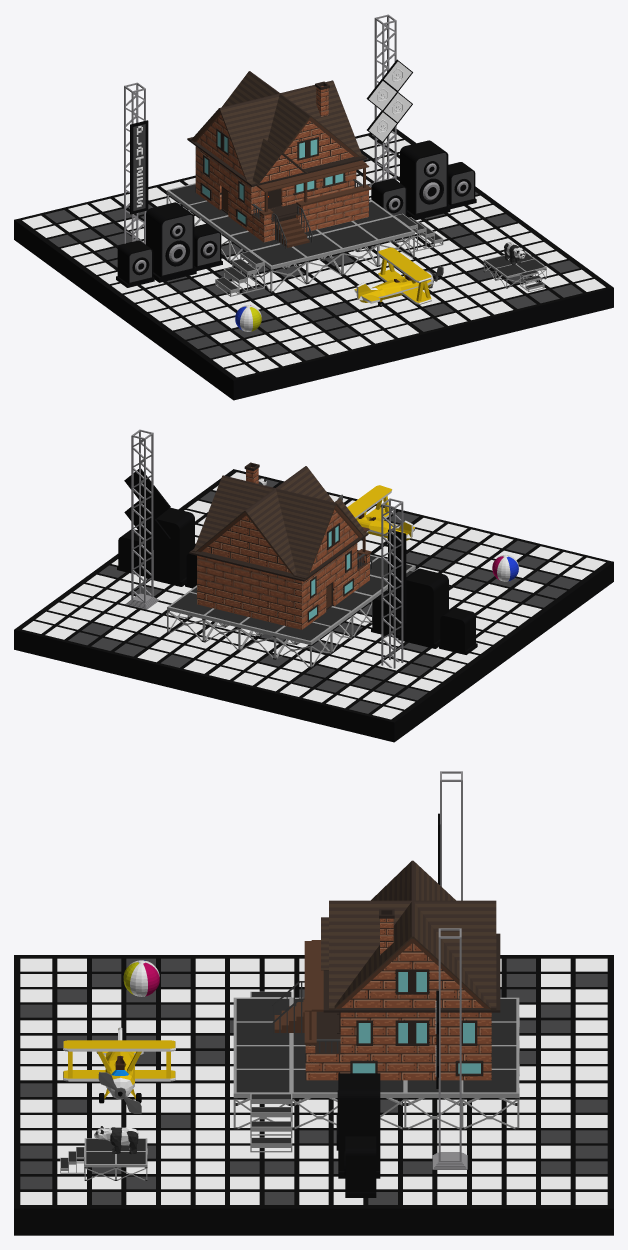
3 views of the same model, one above another, from view 1: azimuth 30°, elevation 25°; view 2: azimuth 150°, elevation 25°; view 3: azimuth 270°, elevation 25° (orthographic). The views are drawn at different scales.
Visible parts, largest first — view 1: Cube.008, Cube.469, VEHICLES_AIRPLANE, OBJRANDOM_BEACHBALL; view 2: Cube.008, Cube.469, VEHICLES_AIRPLANE, OBJRANDOM_BEACHBALL; view 3: Cube.008, Cube.469, VEHICLES_AIRPLANE, OBJRANDOM_BEACHBALL, ANIMAL_PANDA.
Boxes of the visible parts, x1,y1,x2,y2 form: Cube.008: (14, 14, 613, 400); Cube.469: (187, 71, 371, 248); VEHICLES_AIRPLANE: (354, 247, 443, 306); OBJRANDOM_BEACHBALL: (235, 305, 261, 331); Cube.008: (14, 429, 613, 742); Cube.469: (189, 462, 372, 629); VEHICLES_AIRPLANE: (337, 485, 415, 544); OBJRANDOM_BEACHBALL: (492, 554, 518, 581); Cube.008: (14, 771, 613, 1235); Cube.469: (272, 860, 500, 1080); VEHICLES_AIRPLANE: (63, 1027, 175, 1114); OBJRANDOM_BEACHBALL: (123, 960, 159, 996); ANIMAL_PANDA: (94, 1126, 138, 1154).
Bounding box in the file's own units: 4000 × 1950 × 4000.
Materials: 40 (2 with a texture image).
